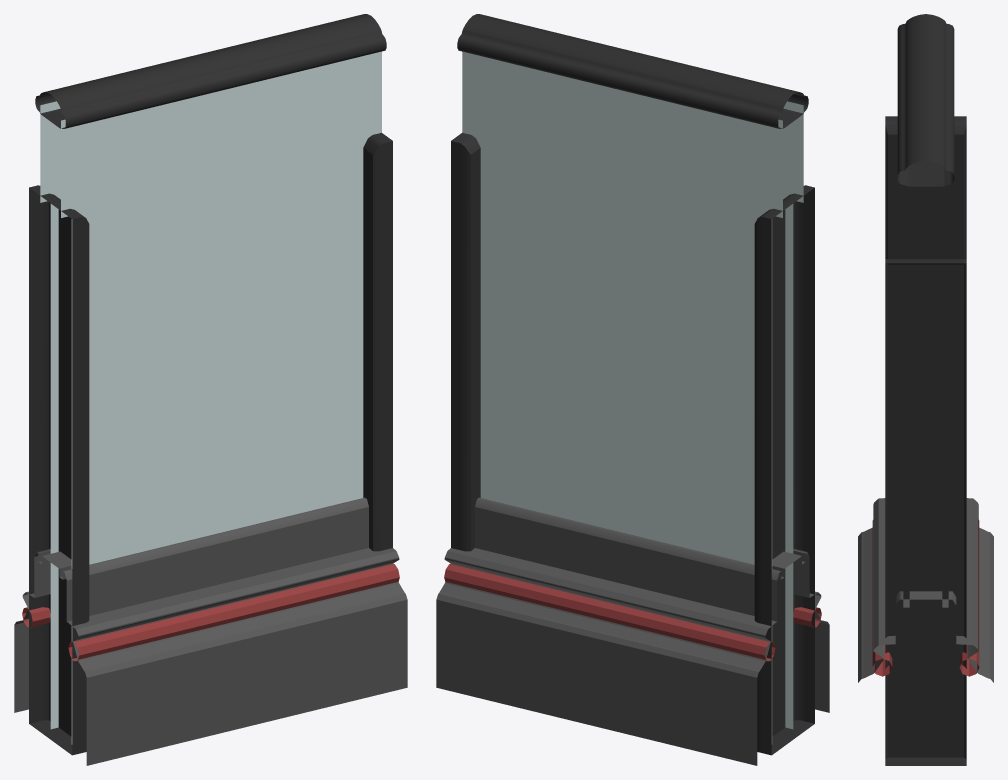
Rendered from BarrierHalf.fbx.
3 views of the same model, side by side, from view 1: azimuth 30°, elevation 25°; view 2: azimuth 150°, elevation 25°; view 3: azimuth 270°, elevation 25° (orthographic). The views are drawn at different scales.
Parts seen in each view (by area): view 1: Glass, BaseTrim, polySurface33, Base, HandTrim, polySurface34, GlowRod; view 2: Glass, BaseTrim, polySurface33, Base, HandTrim, polySurface34, GlowRod; view 3: polySurface34, HandTrim, BaseTrim, polySurface33, GlowRod, Base.
Part boxes in pixels (x1=…): Glass: x1=40, y1=51, x2=381, y2=744; BaseTrim: x1=14, y1=548, x2=407, y2=765; polySurface33: x1=29, y1=185, x2=89, y2=755; Base: x1=34, y1=497, x2=368, y2=621; HandTrim: x1=35, y1=14, x2=386, y2=128; polySurface34: x1=363, y1=132, x2=392, y2=551; GlowRod: x1=22, y1=564, x2=399, y2=661; Glass: x1=462, y1=51, x2=803, y2=744; BaseTrim: x1=436, y1=548, x2=829, y2=765; polySurface33: x1=754, y1=185, x2=814, y2=755; Base: x1=475, y1=497, x2=809, y2=621; HandTrim: x1=457, y1=14, x2=808, y2=128; polySurface34: x1=451, y1=132, x2=480, y2=551; GlowRod: x1=444, y1=564, x2=821, y2=661; polySurface34: x1=885, y1=259, x2=966, y2=765; HandTrim: x1=897, y1=14, x2=954, y2=186; BaseTrim: x1=858, y1=498, x2=993, y2=682; polySurface33: x1=885, y1=116, x2=966, y2=258; GlowRod: x1=872, y1=520, x2=979, y2=676; Base: x1=895, y1=591, x2=956, y2=607.
Bounding box in the file's own units: 2.14 × 4.12 × 0.8378.
